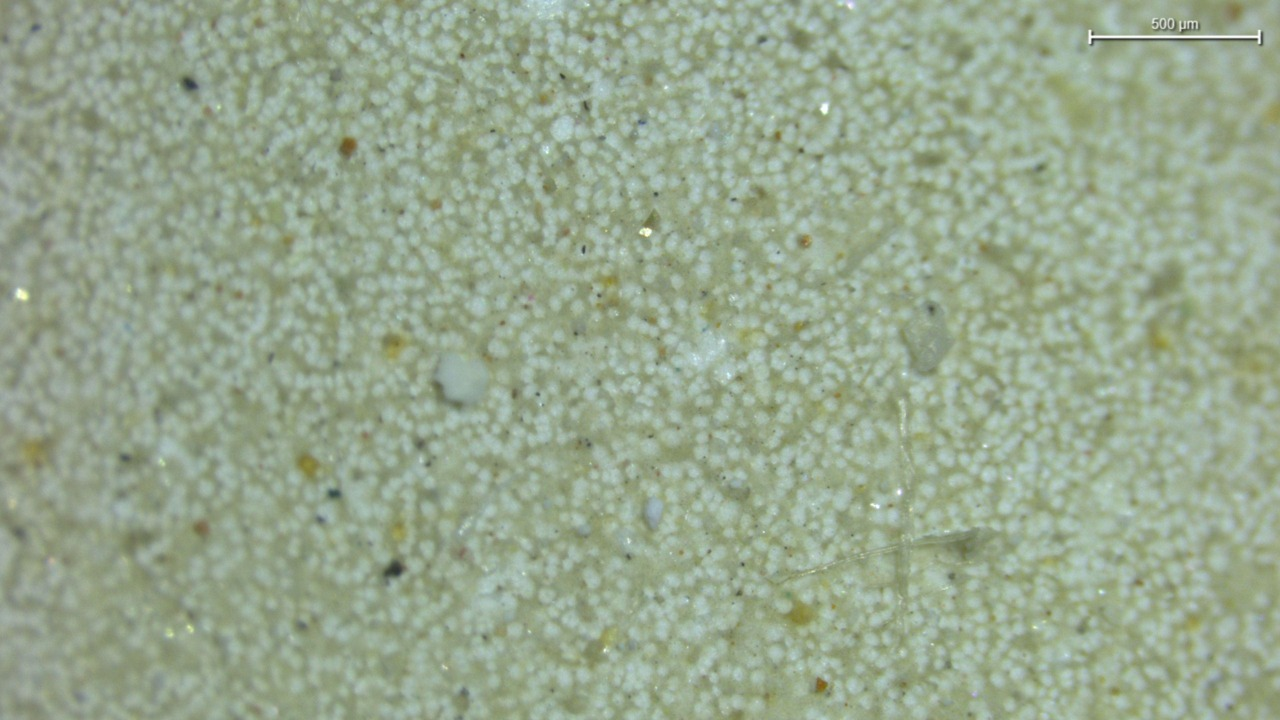microplastic_fragment: (900, 302, 953, 373), (434, 352, 489, 406), (645, 497, 662, 528)
